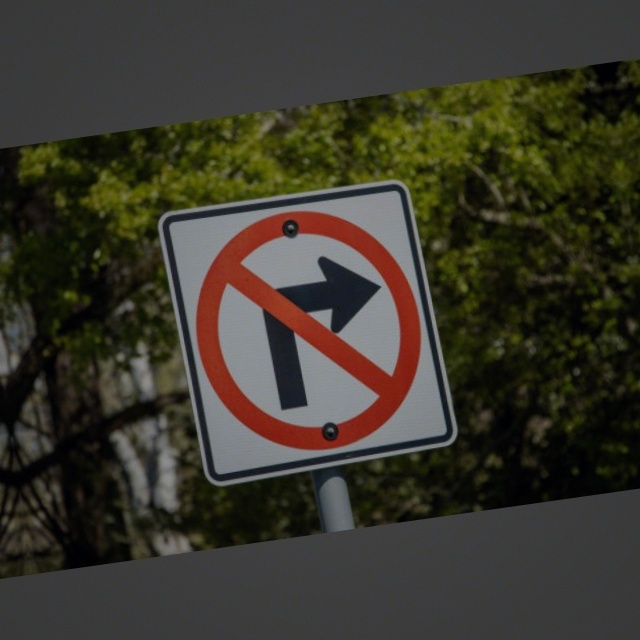Right_Turn_Prohibited: (177, 194, 444, 467)
